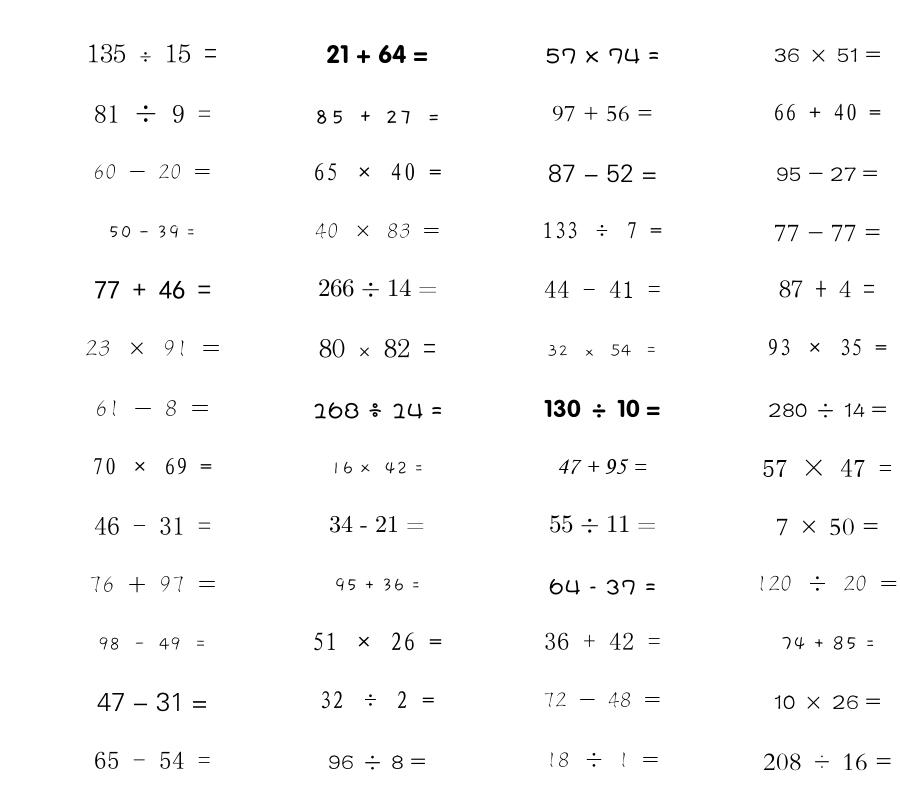MQ: (87, 44, 217, 63), (312, 632, 442, 651), (756, 575, 898, 592), (319, 338, 436, 358), (762, 459, 892, 477), (313, 163, 442, 181), (763, 753, 892, 771), (85, 340, 220, 357), (312, 402, 443, 419), (94, 104, 211, 123), (94, 280, 211, 299), (94, 516, 211, 535), (97, 692, 208, 712), (544, 399, 660, 418), (542, 221, 662, 239), (767, 338, 887, 356), (92, 457, 212, 475), (89, 576, 216, 593), (318, 279, 437, 297), (544, 280, 661, 298), (544, 632, 661, 650), (94, 751, 211, 769), (319, 691, 435, 709), (548, 164, 657, 183), (326, 44, 428, 64), (315, 223, 440, 239), (773, 103, 881, 121), (95, 400, 209, 417), (774, 224, 881, 242), (549, 515, 656, 533), (314, 109, 441, 124), (543, 692, 661, 708), (776, 518, 879, 536), (545, 48, 660, 64), (549, 578, 656, 595), (546, 752, 659, 768), (768, 403, 887, 418), (93, 164, 211, 179), (779, 280, 875, 298), (329, 515, 425, 533), (552, 105, 653, 122), (557, 458, 647, 475), (98, 637, 207, 651), (774, 48, 881, 62), (774, 695, 881, 709), (328, 755, 426, 770), (547, 344, 658, 357), (776, 167, 878, 181), (780, 636, 875, 651), (330, 461, 424, 475), (108, 225, 196, 239), (334, 578, 421, 592)
